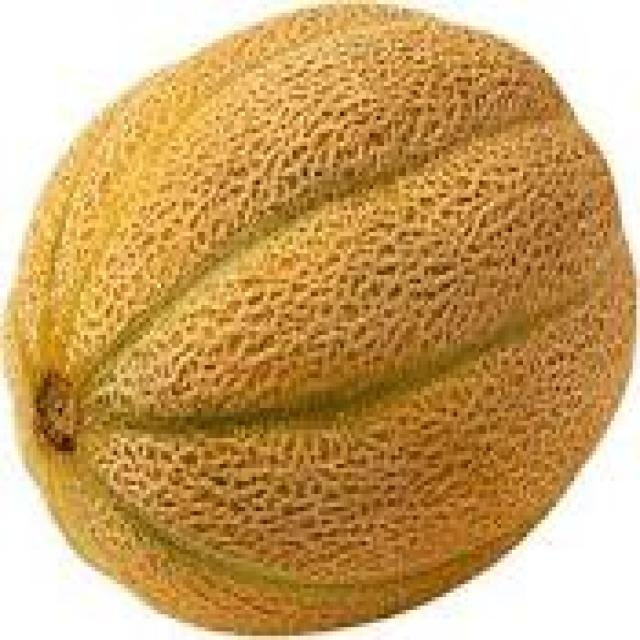melon: (0, 0, 625, 631)
